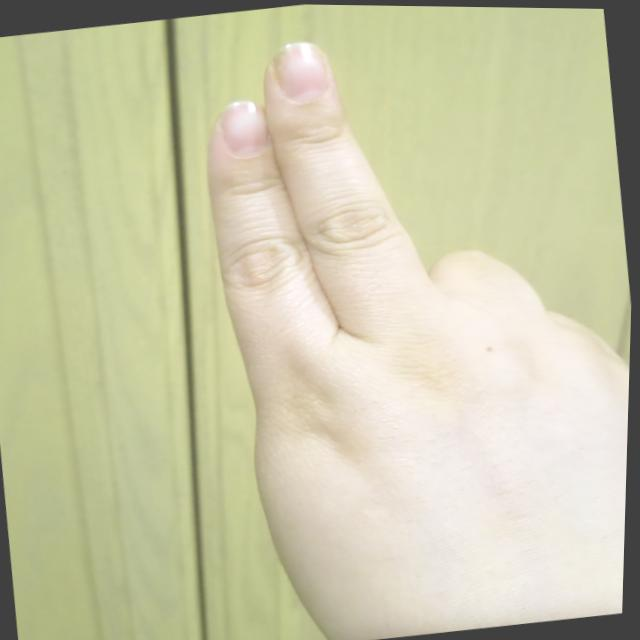U: (170, 2, 639, 640)
